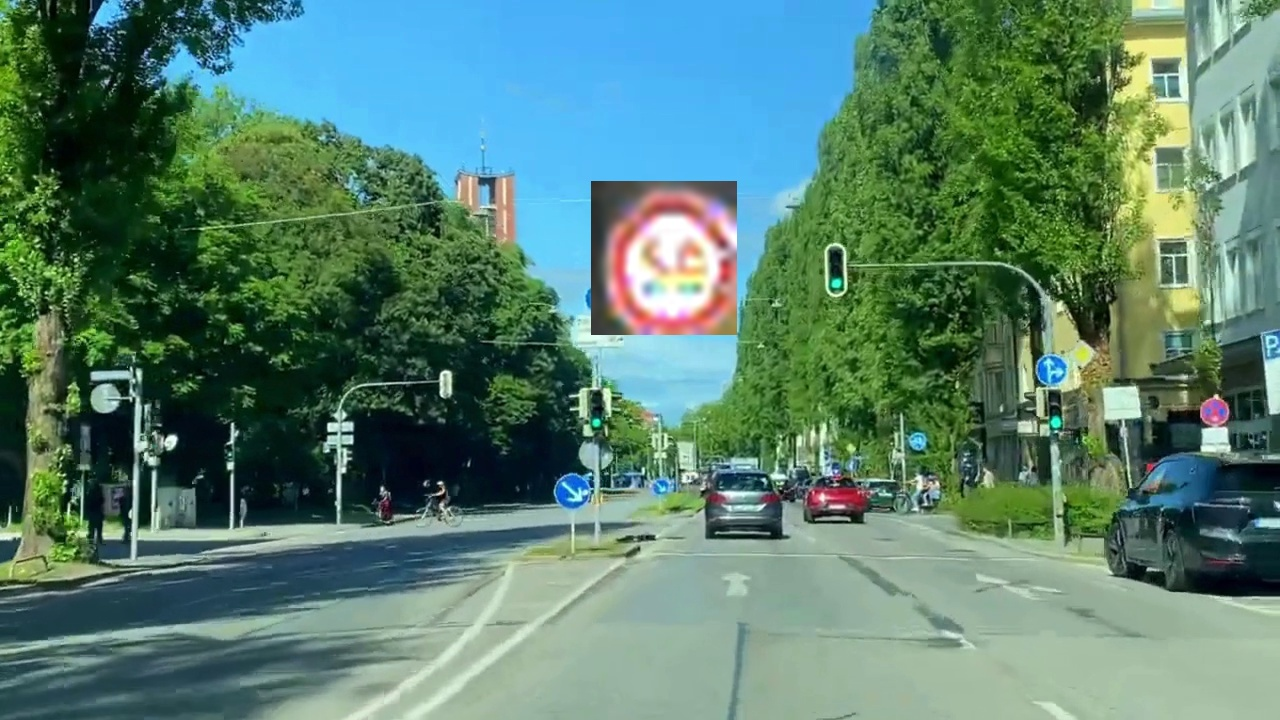Speed 50: (591, 181, 737, 335)
